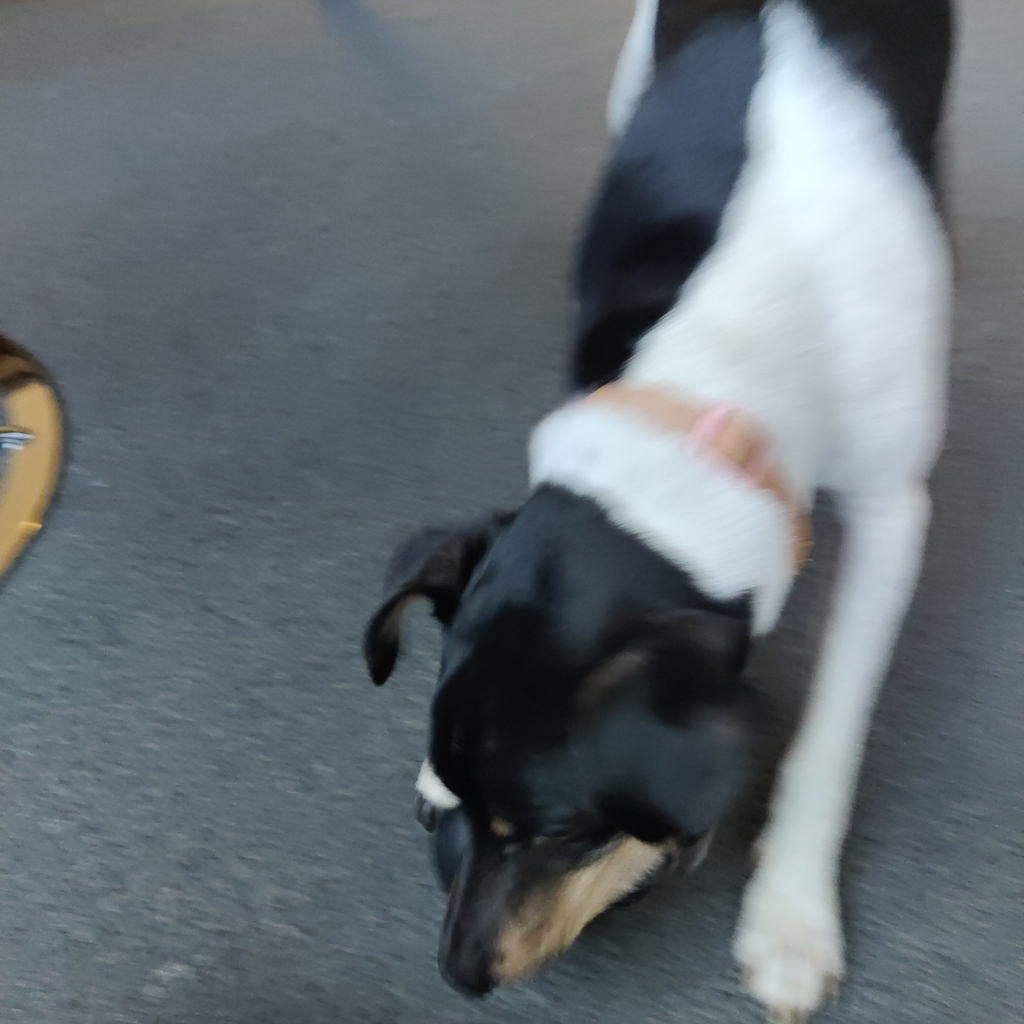Dog: (277, 0, 1001, 1024)
